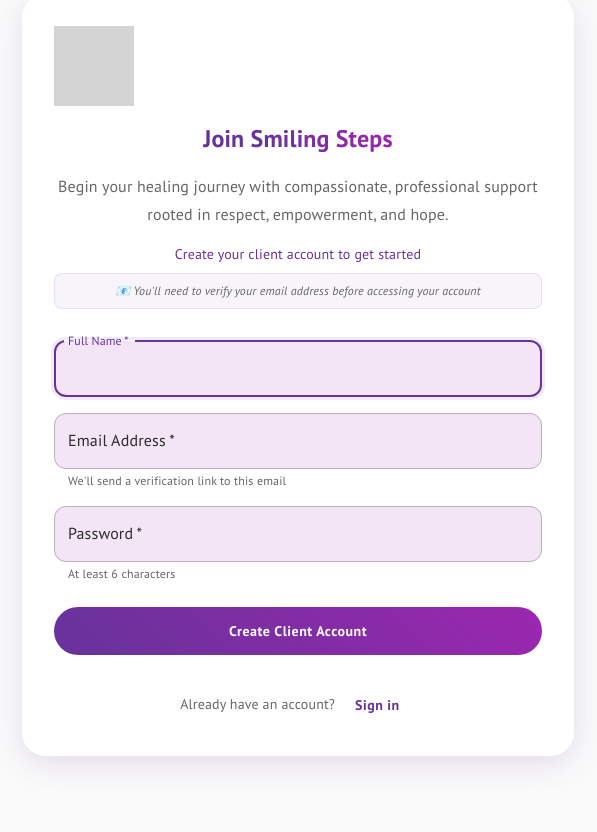
it: Client Registration Form › handles registration error gracefully
Fill in the form
Type "John Doe" into the field labelled "Full Name *" at coordinates (298, 369), box top-left (54, 341), bottom-right (542, 397)
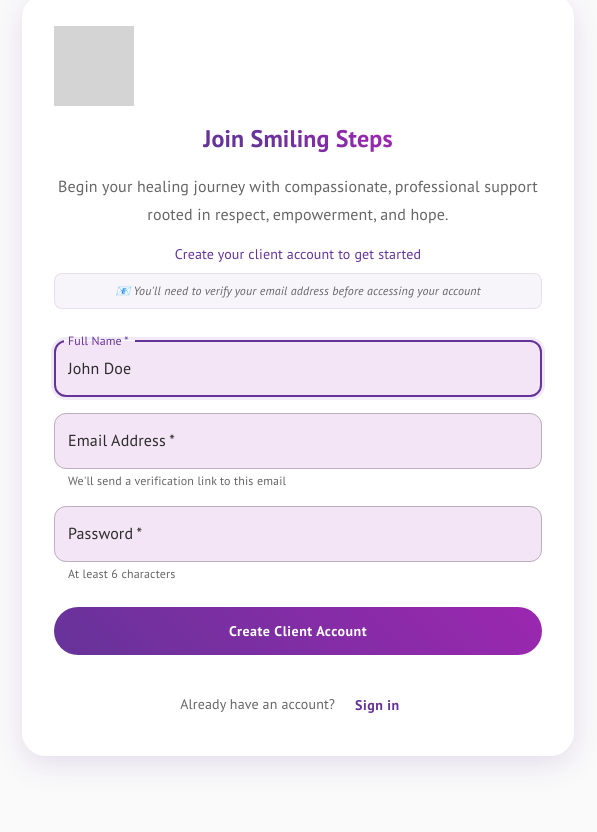
Type "john@example.com" into the field labelled "Email Address *" at coordinates (298, 441), box top-left (54, 413), bottom-right (542, 469)
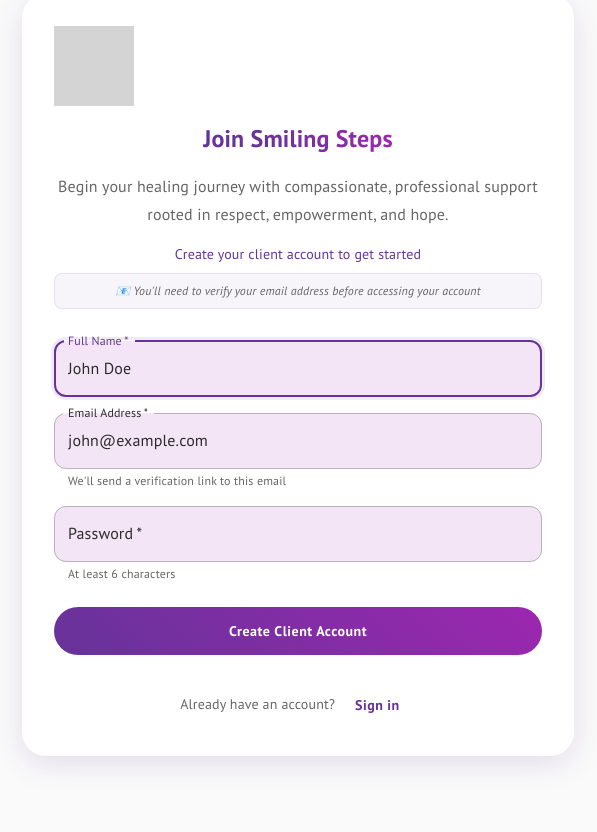
Type "password123" into the password field labelled "Password *" at coordinates (298, 534), box top-left (54, 506), bottom-right (542, 562)
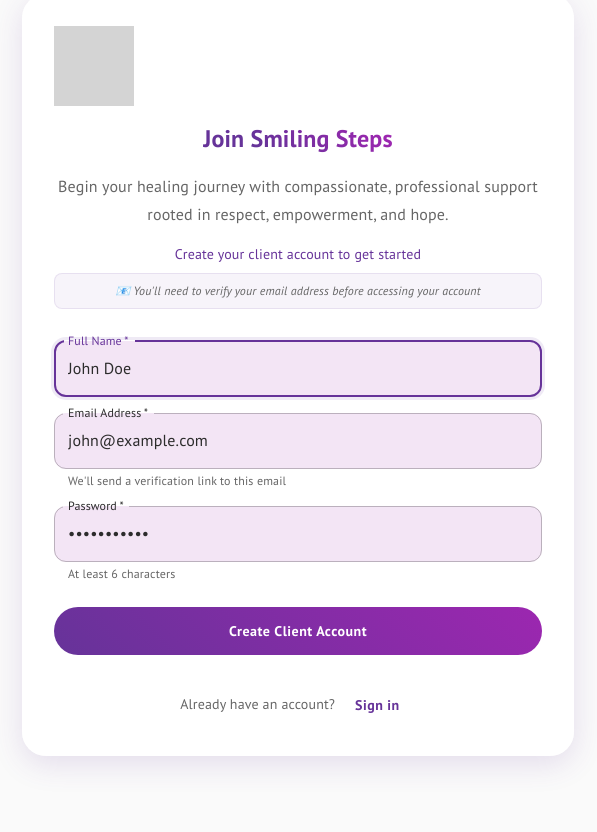
Click the button "Create Client Account" at coordinates (298, 631), box top-left (54, 607), bottom-right (542, 655)
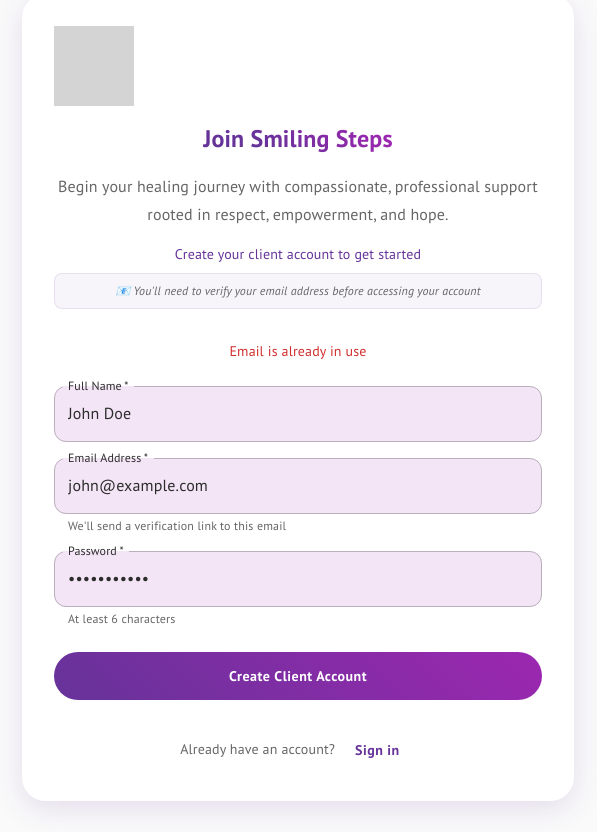
Now the text "Email is already in use" is shown, box top-left (230, 341), bottom-right (367, 362)
